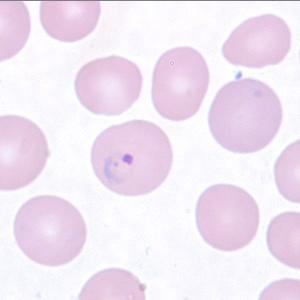Infected: (93, 120, 174, 195)
Uninfected: (208, 79, 284, 155), (13, 194, 88, 265), (73, 54, 142, 117), (197, 184, 260, 252), (151, 47, 208, 121), (219, 14, 293, 67), (0, 114, 48, 192), (39, 0, 101, 40)
